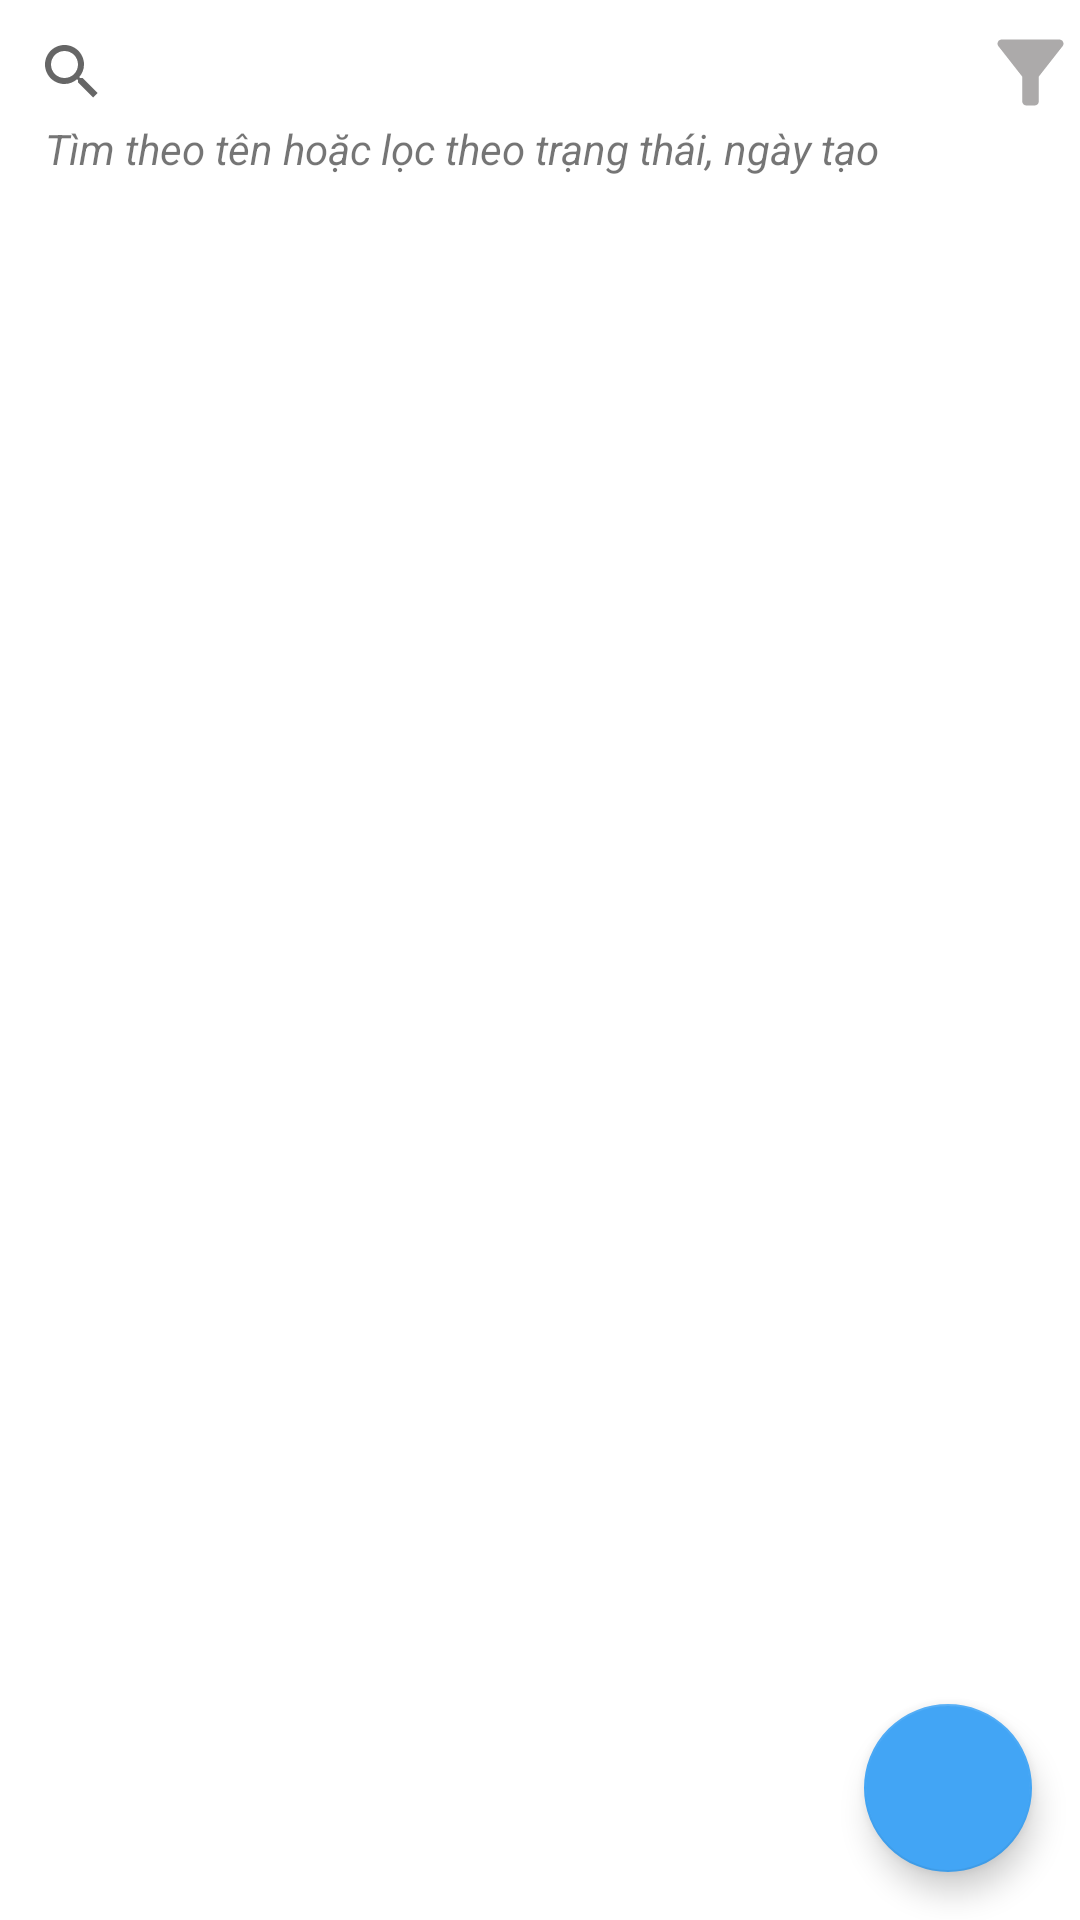

Screen size 1080px×1920px. Icon name, then its box in pixels as (x1, y1, x2, y2):
filter list: (997, 39, 1064, 106)
